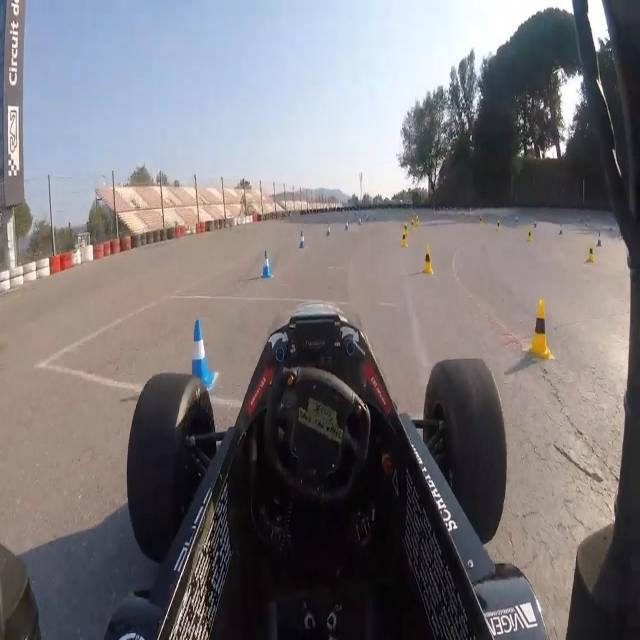blue_cone: (190, 320, 211, 391), (263, 250, 270, 276), (326, 222, 331, 238), (597, 230, 601, 245), (559, 222, 563, 236), (344, 218, 348, 231), (301, 232, 304, 247)
yellow_cone: (534, 300, 548, 360), (423, 246, 433, 276), (588, 240, 594, 265), (526, 224, 532, 243), (402, 230, 406, 249), (496, 218, 501, 231), (404, 222, 408, 236), (411, 219, 414, 229)
